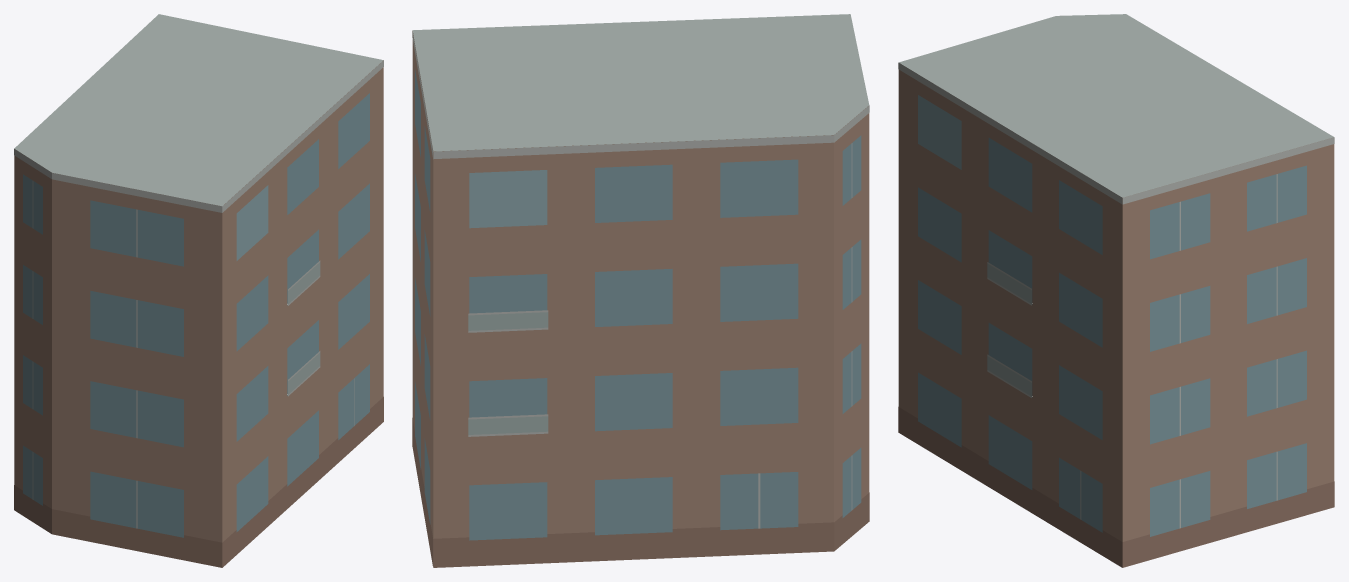
Rendered from survey-upis-32959166.glb.
3 renders of one model, left to right at view 1: azimuth 30°, elevation 25°; view 2: azimuth 150°, elevation 25°; view 3: azimuth 270°, elevation 25°, orthographic. The views are drawn at different scales.
Visible parts, largest first — view 1: survey-upis-32959166.tmp; view 2: survey-upis-32959166.tmp; view 3: survey-upis-32959166.tmp.
Part boxes in pixels (box(x1,y1,x2,y2)): survey-upis-32959166.tmp: box(14, 14, 383, 567); survey-upis-32959166.tmp: box(412, 14, 869, 567); survey-upis-32959166.tmp: box(898, 14, 1334, 567).
Size of the model in its own units: 14.06 by 13.2 by 14.1.
